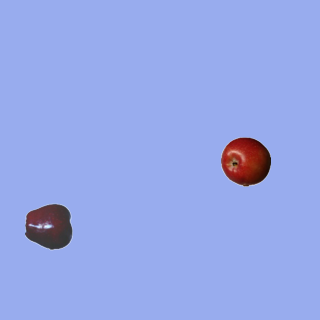Apple Braeburn: (220, 136, 270, 186)
Apple Red Delicious: (24, 201, 74, 251)
